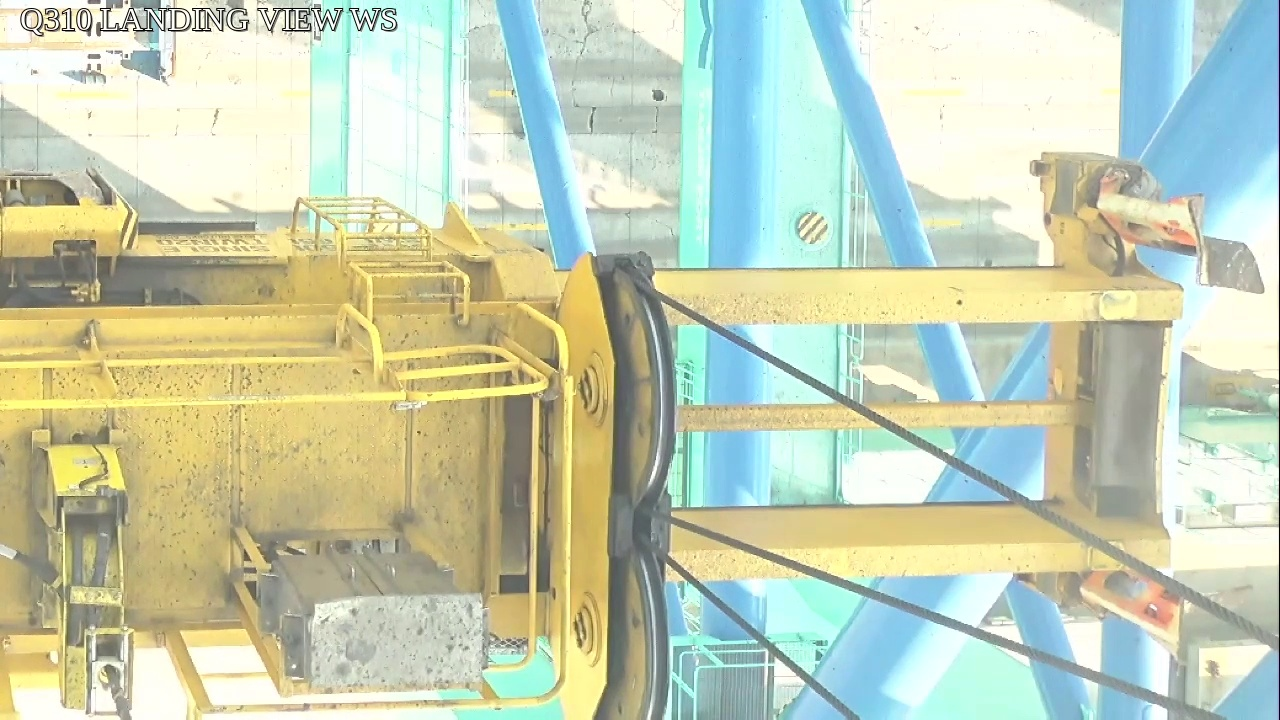right: (552, 254, 672, 720)
